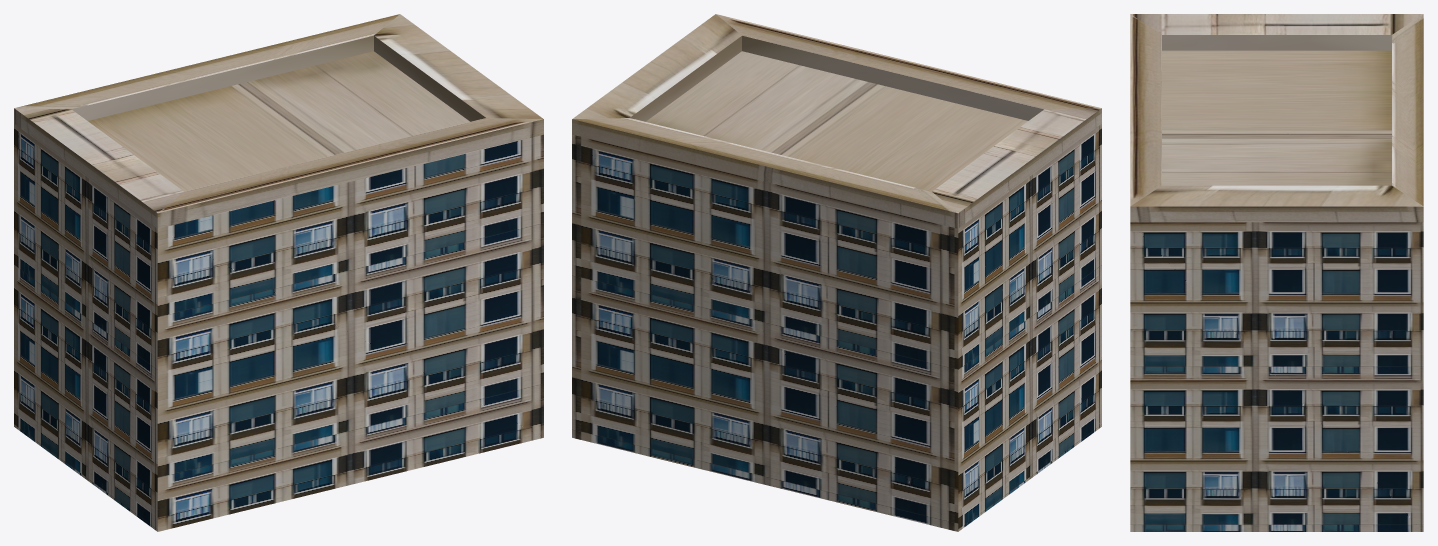
The model's file is Building000.fbx.
3 renders of one model, left to right at view 1: azimuth 30°, elevation 25°; view 2: azimuth 150°, elevation 25°; view 3: azimuth 270°, elevation 25°, orthographic. The views are drawn at different scales.
Visible parts, largest first — view 1: Building 000.009; view 2: Building 000.009; view 3: Building 000.009.
Part boxes in pixels (left/top/right/bottom): Building 000.009: left=14, top=14, right=543, bottom=531; Building 000.009: left=572, top=14, right=1101, bottom=531; Building 000.009: left=1130, top=14, right=1423, bottom=531.
Bounding box in the file's own units: 57 × 44.94 × 36.74.
